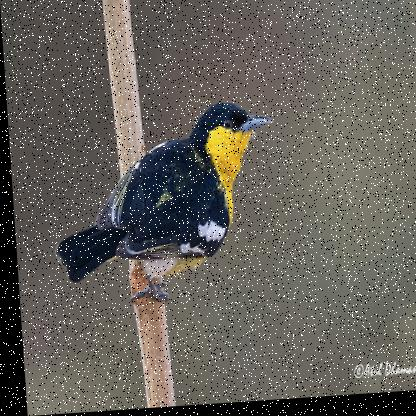Burung: (44, 102, 279, 307)
